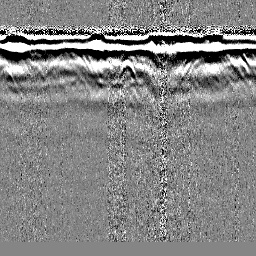cavity: (117, 57, 138, 81)
